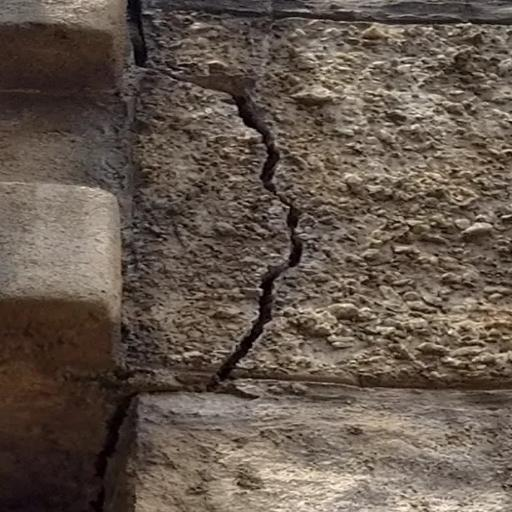major_crack: (119, 4, 319, 402), (94, 386, 153, 512)
